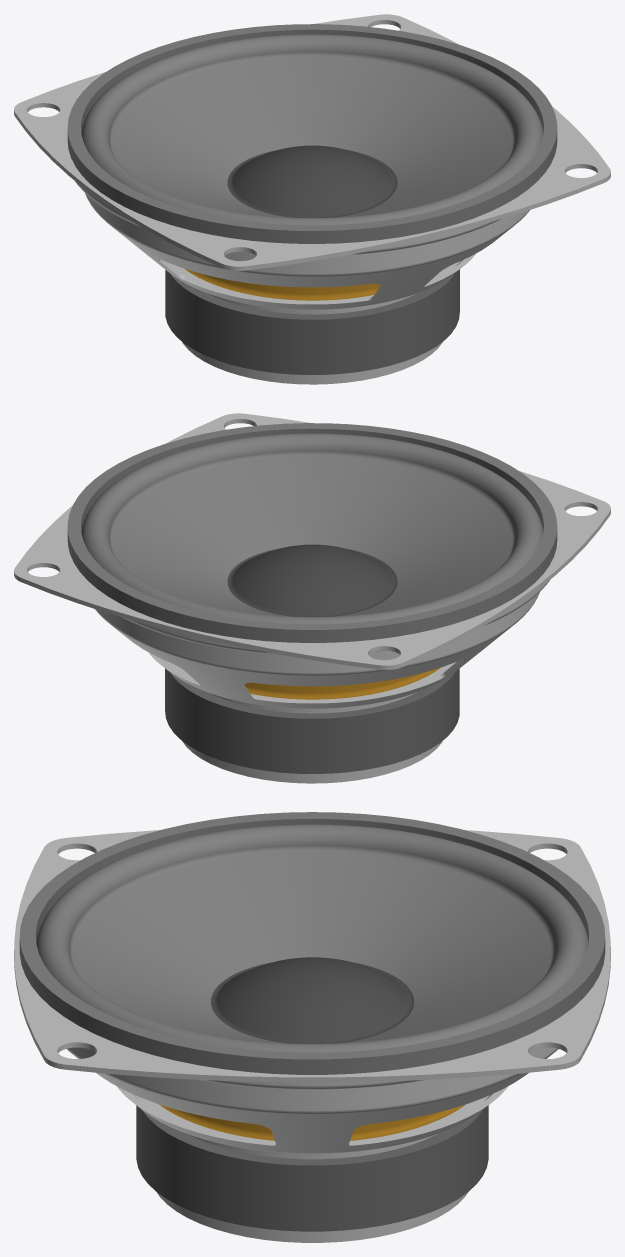
The model's file is generic_speaker.glb.
3 renders of one model, top to bottom at view 1: azimuth 30°, elevation 25°; view 2: azimuth 150°, elevation 25°; view 3: azimuth 270°, elevation 25°, orthographic. The views are drawn at different scales.
Visible parts, largest first — view 1: currentmodel.wrl.cleaner.materialmerger.gles; view 2: currentmodel.wrl.cleaner.materialmerger.gles; view 3: currentmodel.wrl.cleaner.materialmerger.gles.
Boxes of the visible parts, bbox=[...] form: currentmodel.wrl.cleaner.materialmerger.gles: bbox=[14, 14, 610, 384]; currentmodel.wrl.cleaner.materialmerger.gles: bbox=[14, 413, 610, 783]; currentmodel.wrl.cleaner.materialmerger.gles: bbox=[14, 812, 610, 1242].
Bounding box in the file's own units: 66.47 × 29.37 × 66.47.
